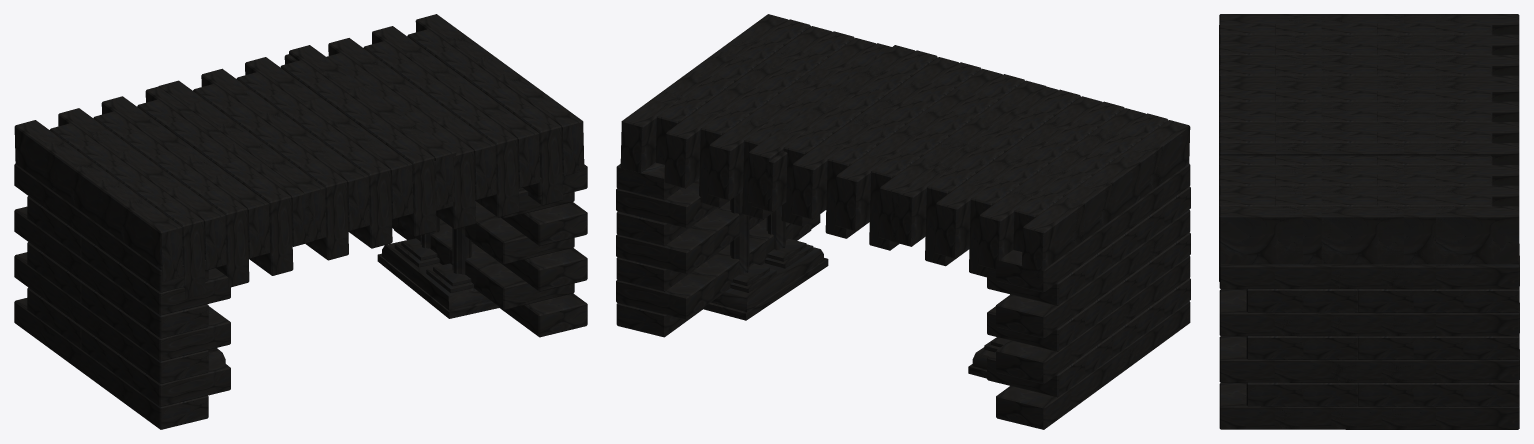
Rendered from Temple1.fbx.
3 views of the same model, side by side, from view 1: azimuth 30°, elevation 25°; view 2: azimuth 150°, elevation 25°; view 3: azimuth 270°, elevation 25° (orthographic). The views are drawn at different scales.
Visible parts, largest first — view 1: pasted__polySurface73; view 2: pasted__polySurface73; view 3: pasted__polySurface73.
Boxes of the visible parts, <box> form: pasted__polySurface73: <box>14,14,587,429</box>; pasted__polySurface73: <box>616,14,1190,429</box>; pasted__polySurface73: <box>1219,14,1519,429</box>.
Size of the model in its own units: 2178 by 1003 by 1291.
2 materials, 2 textured.
